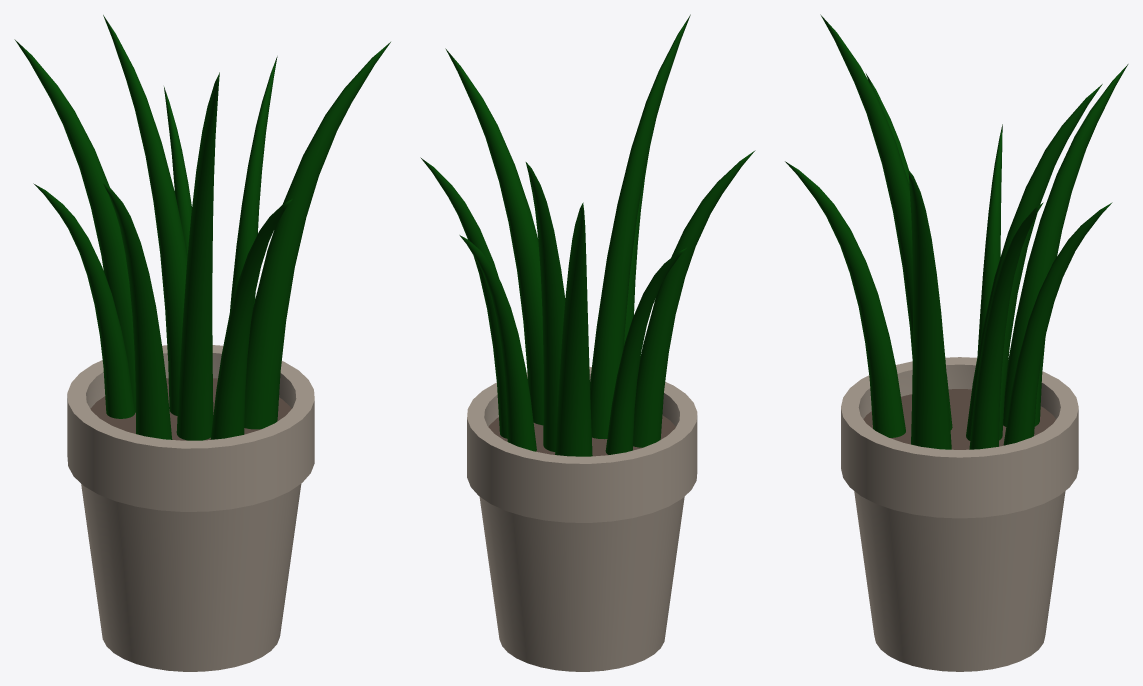
Rendered from Plante4_1.fbx.
3 views of the same model, side by side, from view 1: azimuth 30°, elevation 25°; view 2: azimuth 150°, elevation 25°; view 3: azimuth 270°, elevation 25° (orthographic). The views are drawn at different scales.
Visible parts, largest first — view 1: pCylinder725, pCone27, pCone28, pCone25, pCone21, pCone22, pCone20, pCone23, pCone24, pCone26, pCylinder724; view 2: pCylinder725, pCone28, pCone27, pCone21, pCone22, pCone25, pCone26, pCone23, pCone24, pCylinder724, pCone20; view 3: pCylinder725, pCone27, pCone20, pCone22, pCone26, pCone24, pCone28, pCone25, pCone23, pCylinder724.
Boxes of the visible parts, bbox=[...] form: pCylinder725: bbox=[67, 345, 314, 671]; pCone27: bbox=[244, 42, 390, 429]; pCone28: bbox=[176, 72, 219, 440]; pCone25: bbox=[103, 15, 187, 415]; pCone21: bbox=[103, 183, 172, 439]; pCone22: bbox=[14, 39, 135, 412]; pCone20: bbox=[210, 199, 292, 439]; pCone23: bbox=[33, 183, 135, 418]; pCone24: bbox=[230, 56, 277, 311]; pCone26: bbox=[164, 87, 191, 255]; pCylinder724: bbox=[90, 378, 291, 440]; pCylinder725: bbox=[467, 366, 697, 671]; pCone28: bbox=[590, 14, 690, 439]; pCone27: bbox=[445, 48, 543, 425]; pCone21: bbox=[633, 150, 755, 447]; pCone22: bbox=[555, 202, 592, 456]; pCone25: bbox=[525, 162, 565, 451]; pCone26: bbox=[459, 235, 536, 451]; pCone23: bbox=[605, 247, 687, 454]; pCone24: bbox=[420, 157, 507, 438]; pCylinder724: bbox=[488, 415, 675, 456]; pCone20: bbox=[624, 149, 649, 345]; pCylinder725: bbox=[841, 357, 1078, 671]; pCone27: bbox=[908, 170, 951, 449]; pCone20: bbox=[785, 161, 905, 437]; pCone22: bbox=[1003, 64, 1128, 426]; pCone26: bbox=[1003, 202, 1112, 445]; pCone24: bbox=[969, 202, 1043, 449]; pCone28: bbox=[820, 14, 952, 429]; pCone25: bbox=[966, 84, 1102, 440]; pCone23: bbox=[977, 124, 1002, 356]; pCylinder724: bbox=[863, 389, 1055, 449].
Bounding box in the file's own units: 16.25 × 31.25 × 16.23.
